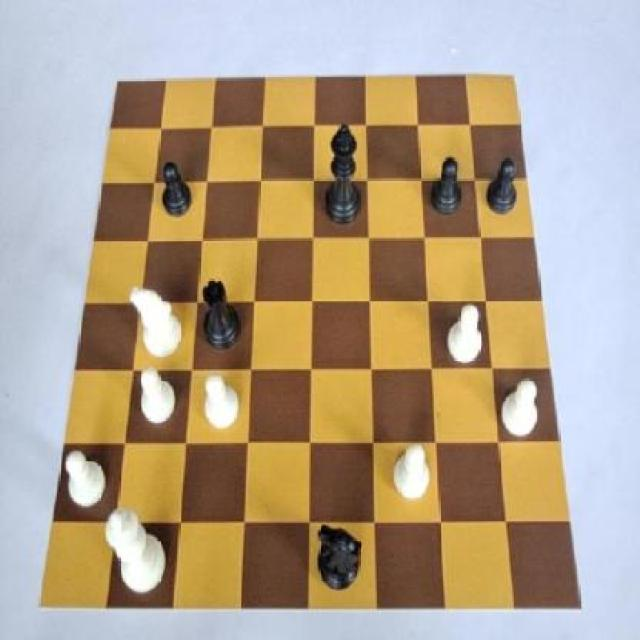black-bishop: (322, 120, 369, 235)
black-king: (308, 521, 372, 604)
black-knight: (482, 151, 523, 222), (426, 154, 467, 223), (156, 162, 197, 230)
black-queen: (195, 272, 241, 354)
white-bishop: (105, 504, 169, 606)
white-king: (130, 283, 186, 362)
white-knight: (129, 363, 181, 435), (495, 375, 548, 444), (61, 449, 112, 520), (442, 301, 490, 374), (388, 442, 438, 508), (195, 371, 243, 436)
